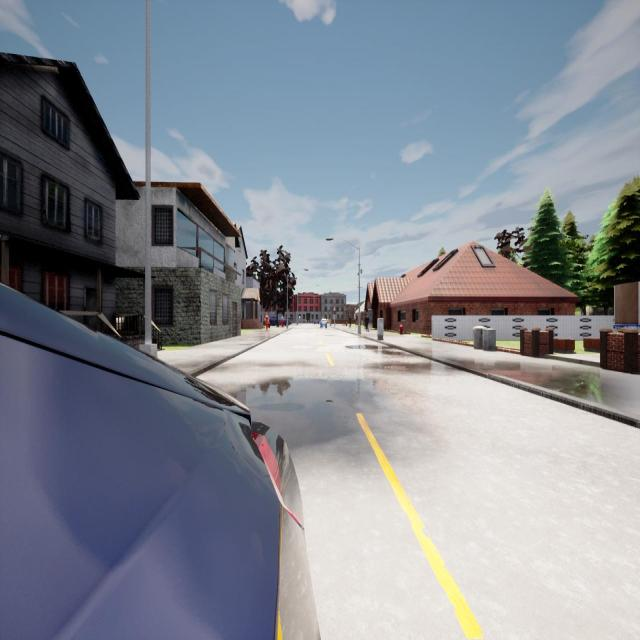Pedestrian: (264, 312, 270, 330), (365, 312, 370, 332), (348, 313, 352, 328), (280, 315, 284, 327)
Vehicle: (0, 285, 319, 638), (267, 314, 292, 326), (320, 319, 327, 328), (314, 319, 319, 324)
traffic_light: (334, 308, 336, 314)
